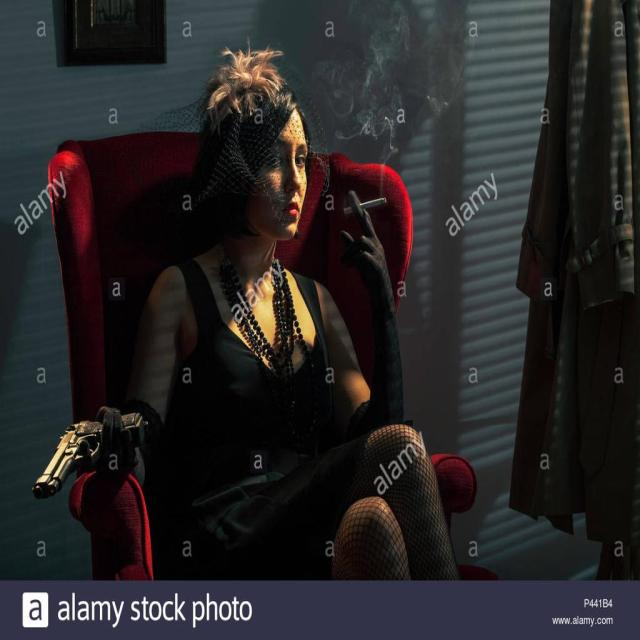smoking: (144, 68, 405, 417)
